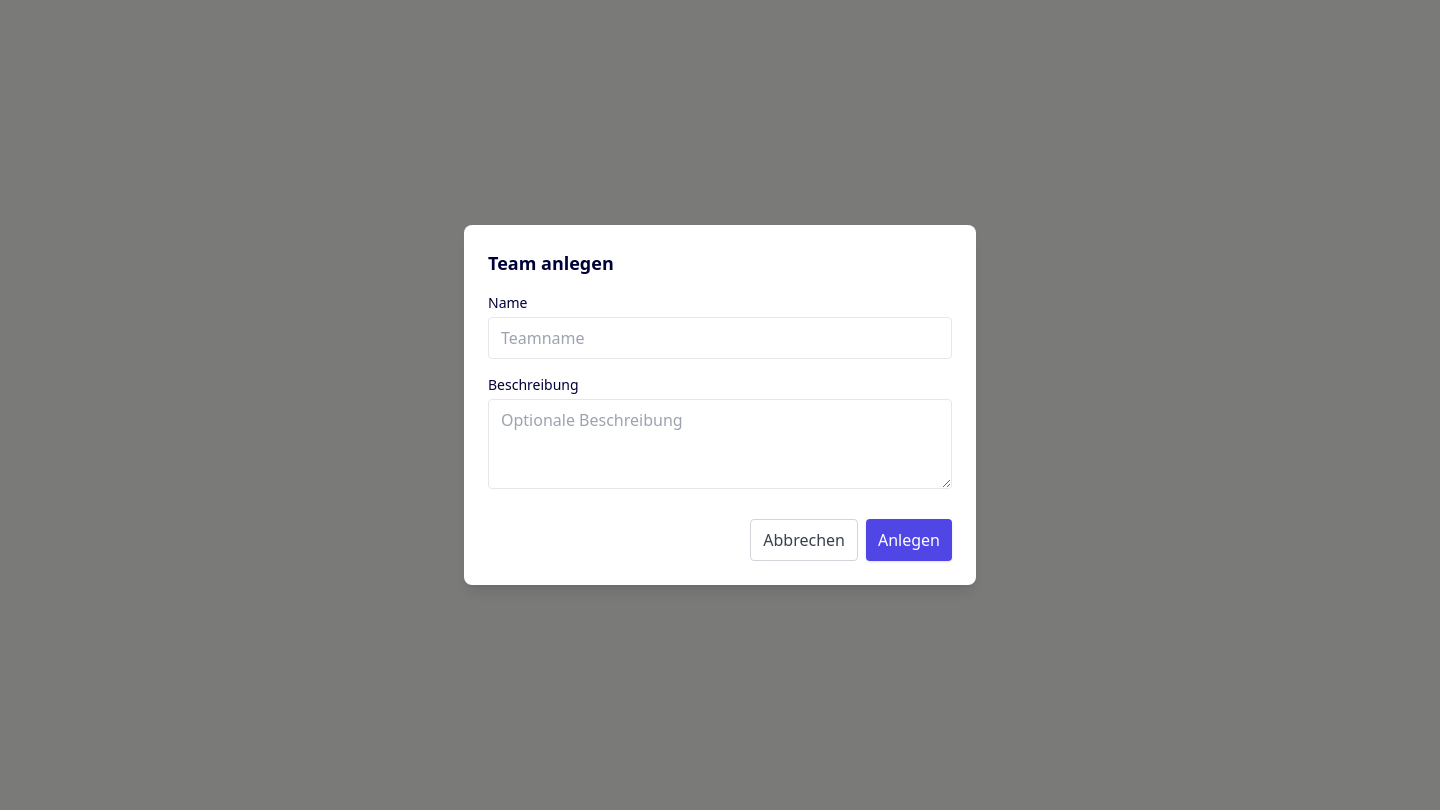
it: TeamForm › validates required fields (name)
Note: Try to submit without filling name
What coordinates should you click on to do the following:
click the button "Anlegen"
I would click on:
 (909, 540)
Its box is [866, 519, 952, 561].
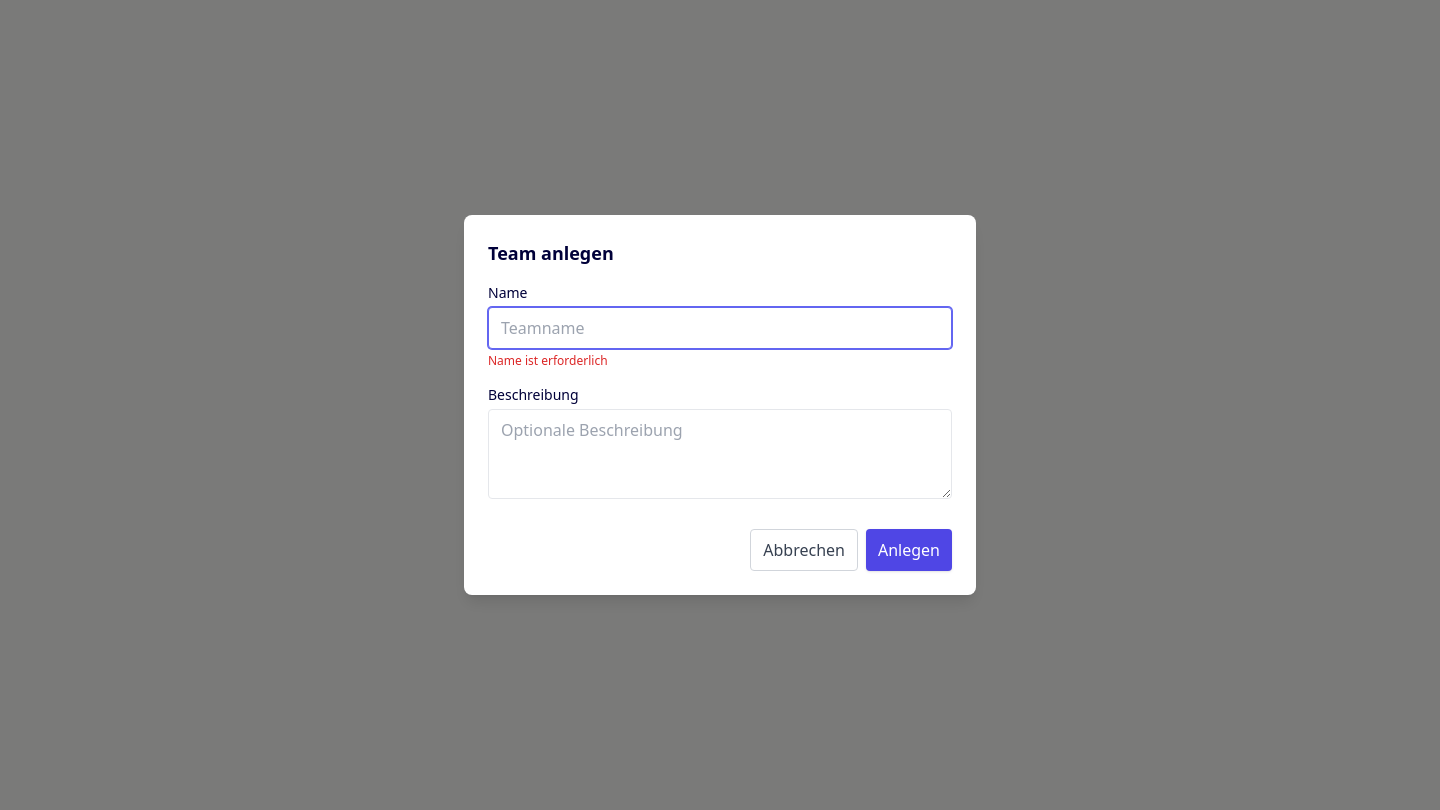
Expected: the text "Name ist erforderlich" is shown, [488, 352, 608, 369]
